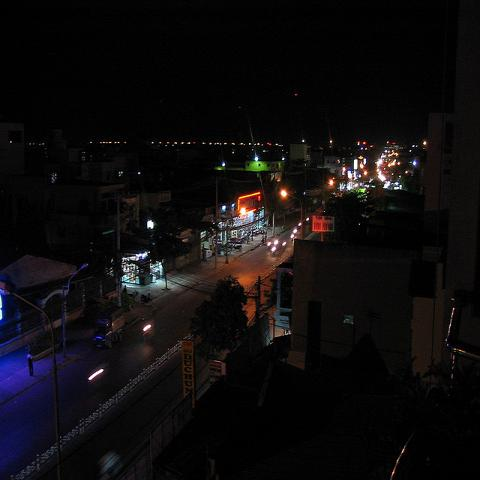car: (92, 323, 114, 349), (266, 232, 282, 252)
motorcycle: (140, 292, 153, 306), (145, 328, 154, 345), (292, 237, 294, 243)
